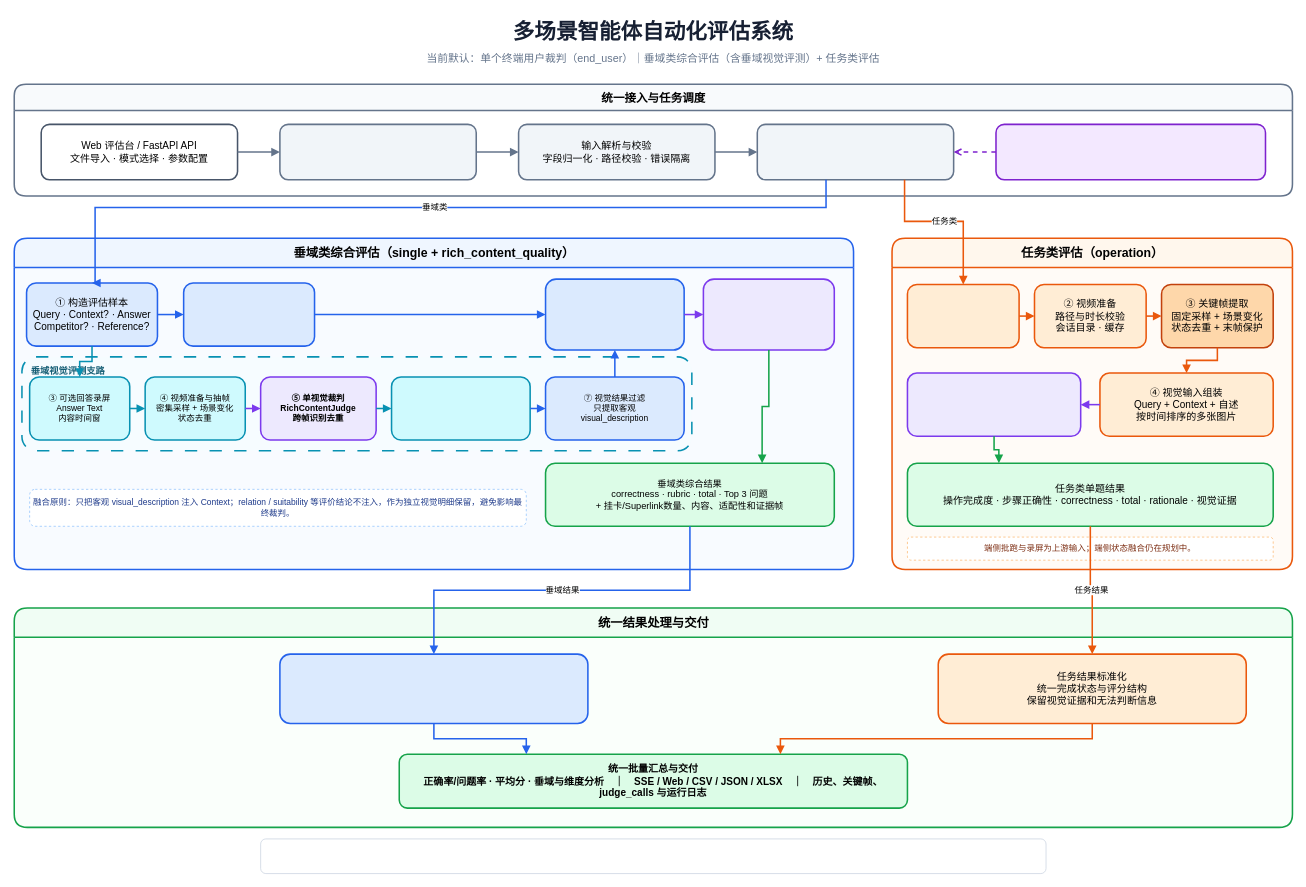
Some shapes in this 1306 by 887 pixel diagram are drawn without their labels. Each missing label, with the centre of its shape:
"Task 调度 逐题并发 · 超时/重试 · 进度持久化" goes at (855,151).
"① 任务执行数据 Query · Context? · 录屏 Agent 自述? · 时间窗?" goes at (962,315).
"② 垂域识别 轻量分类 SkillRouter 匹配规则" goes at (248,314).
"⑤ 终端用户单视觉裁判（end_user） 依据 operation 评分标准判断目标完成、操作过程与最终状态；证据不足判 others" goes at (993,404).
"⑥ 结构化视觉发现 挂卡/Superlink明细 数量 · 适配性 · 证据帧" goes at (460,408).
"⑧ 视觉证据融入 Context enriched_context = 原 Context + visual_description" goes at (614,314).
"⑨ 终端用户单裁判 RubricJudge（end_user） 统一评价文字与富内容" goes at (768,314).
"垂域综合结果标准化 统一文字评分与挂卡视觉明细 Reference 存在时补充元评测" goes at (433,688).
"蓝色：垂域综合评估 青色：垂域视觉评测支路 橙色：任务类评估 紫色：终端用户裁判 绿色：结果与交付" goes at (653,856).
"评估数据输入 垂域类：Query + Answer + 可选回答录屏 任务类：Query + 操作录屏" goes at (378,151).
"配置驱动 end_user 裁判 · Prompt · Skill 规则 评分维度 · rich_content 视觉配置" goes at (1130,151).
